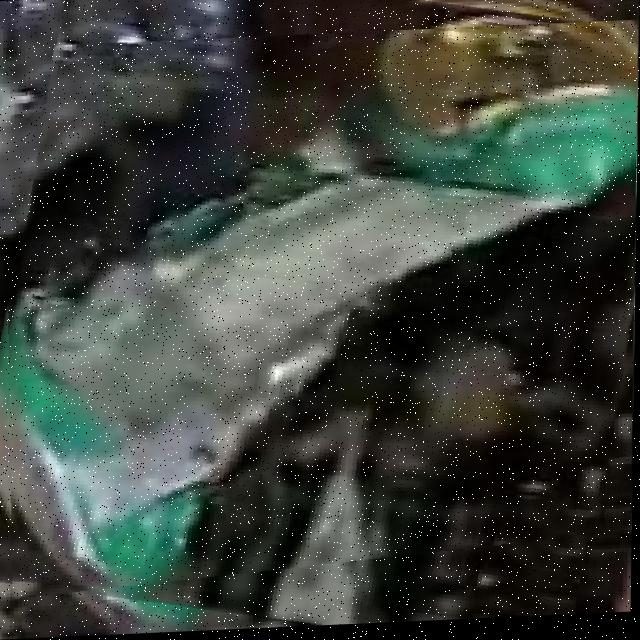can: (9, 26, 638, 590)
